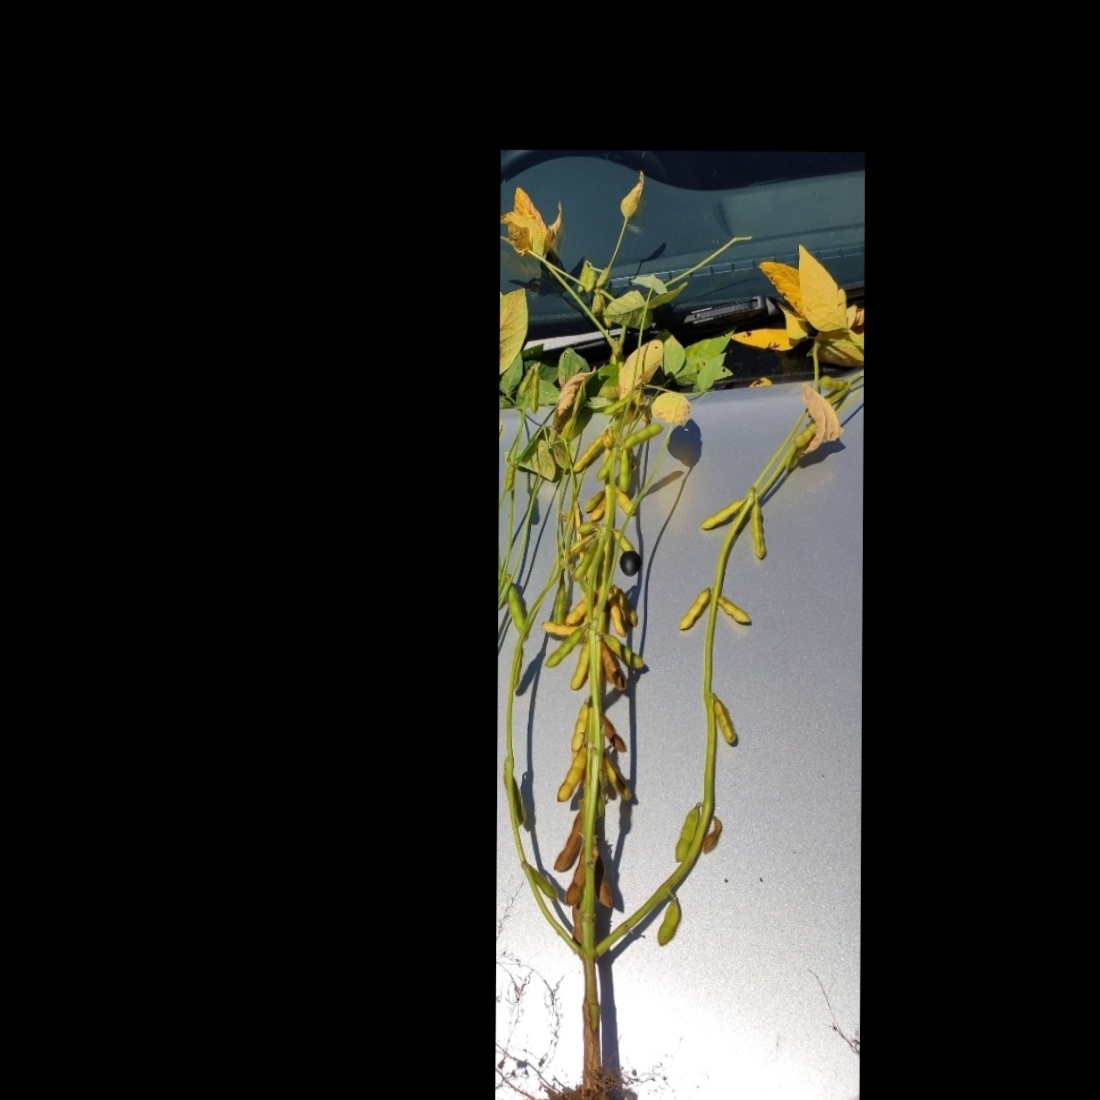pod: (543, 618, 593, 670), (553, 803, 586, 874), (697, 493, 752, 532), (601, 631, 648, 671), (569, 430, 605, 476), (672, 802, 698, 863), (558, 745, 586, 802), (712, 695, 740, 748), (677, 584, 712, 627), (748, 498, 771, 562), (655, 896, 681, 950), (572, 535, 600, 585), (618, 421, 665, 450), (528, 860, 559, 903), (566, 843, 586, 909), (569, 639, 592, 693), (506, 584, 527, 634), (570, 698, 588, 755), (717, 596, 752, 625), (564, 593, 593, 627), (605, 590, 626, 638), (817, 371, 849, 394), (528, 372, 544, 416), (790, 425, 818, 450), (616, 449, 631, 494), (504, 462, 513, 495)
soy: (498, 198, 848, 1100)
